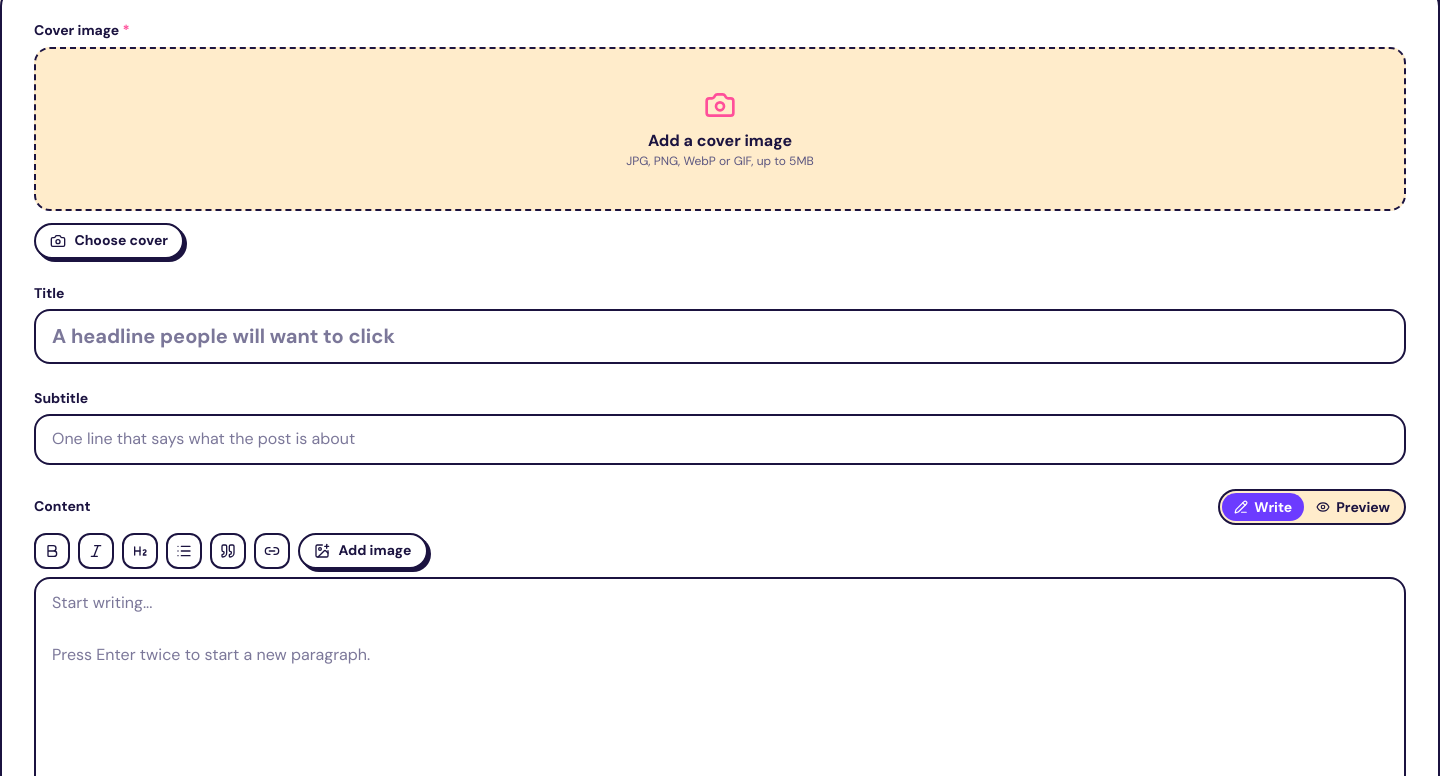
Test: PostEditor (new post) › requires a cover image
Step 1. Type "My Post" into the field labelled "Title" → [720, 336], box [34,309,1406,364]
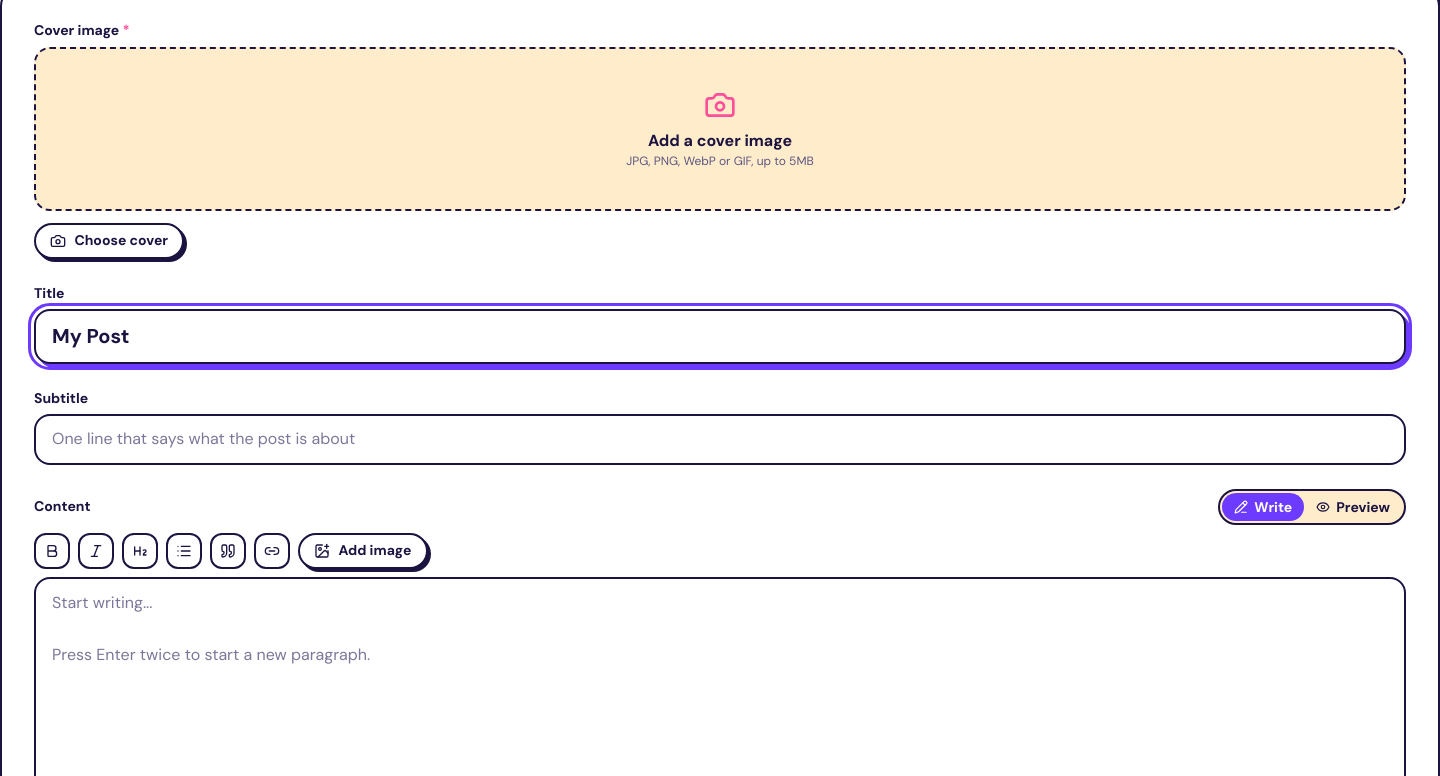
Step 2. Type "About things" into the field labelled "Subtitle" → [720, 439], box [34,414,1406,465]
(page scrolled)
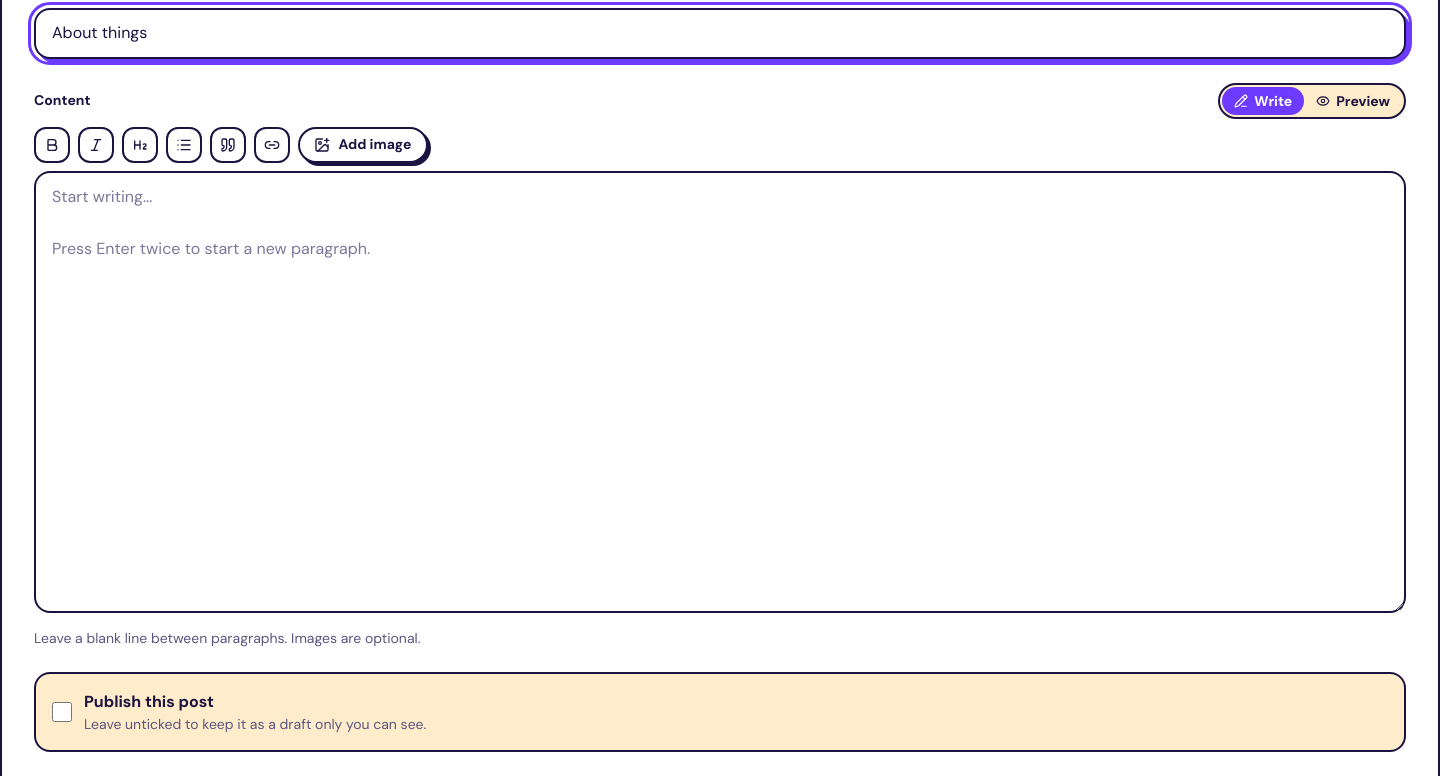
Step 3. Type "Hello readers" into the text box labelled "Content" → [720, 392], box [34,170,1406,613]
(page scrolled)
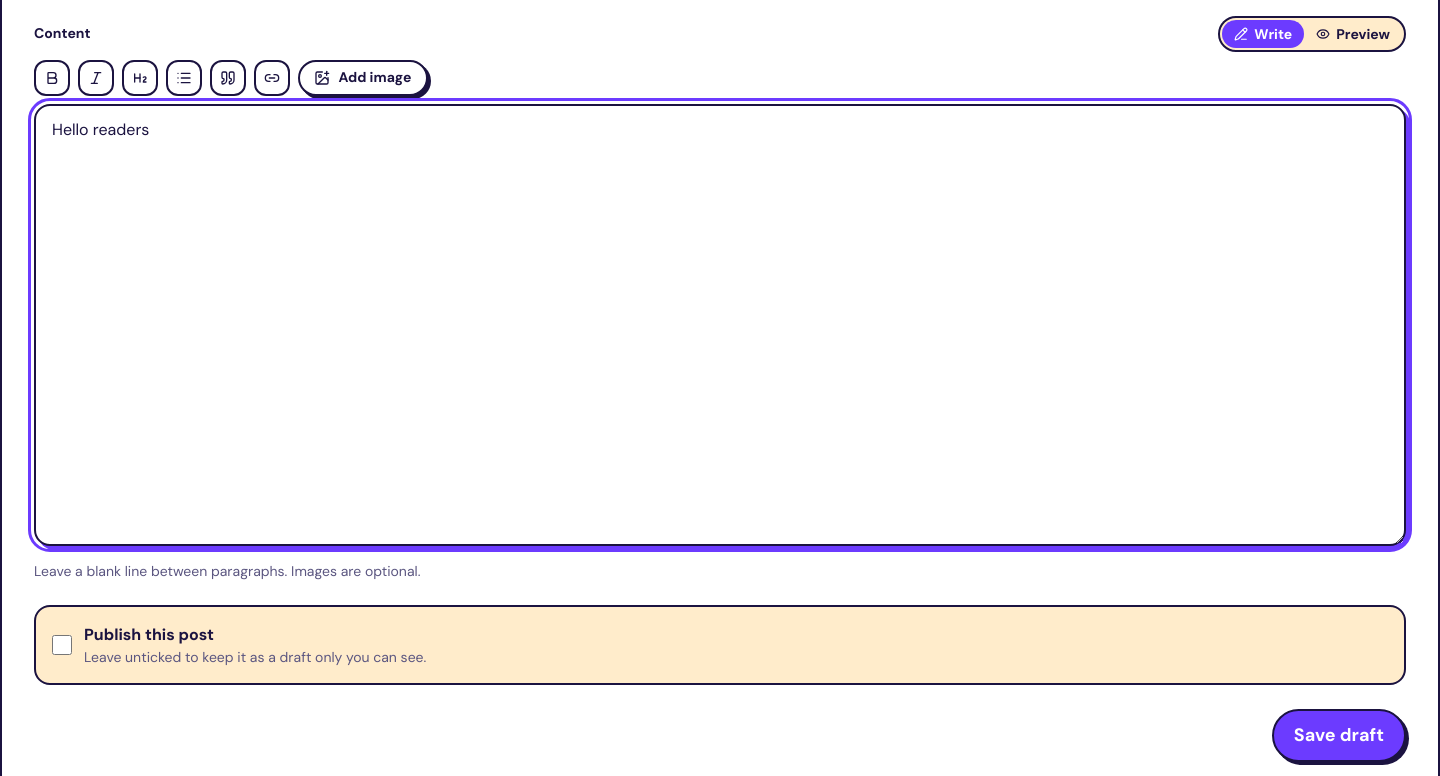
Step 4. Click the button "Save draft" → [1339, 735], box [1272,709,1406,762]
(page scrolled)
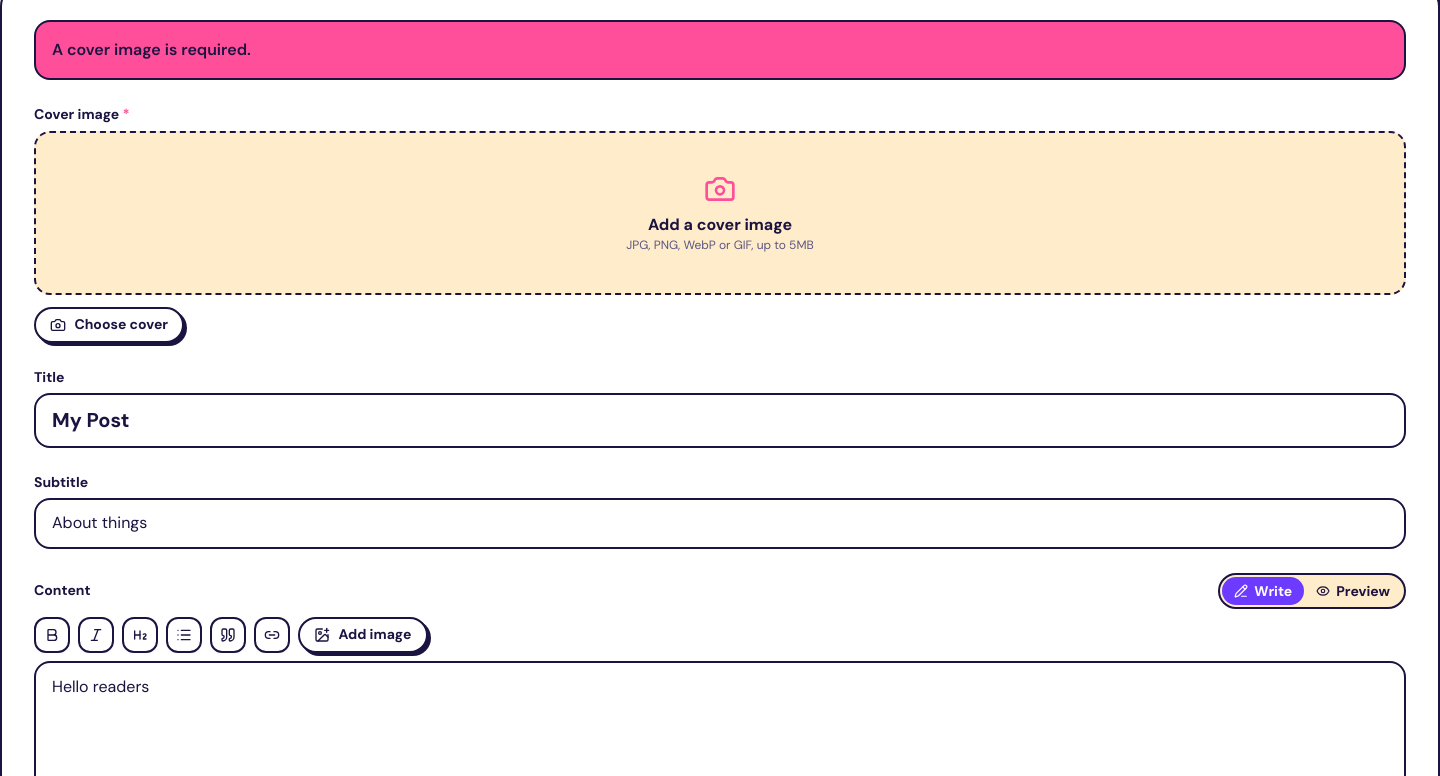
Result: the message shows "cover image is required" at [52,39,251,60]
